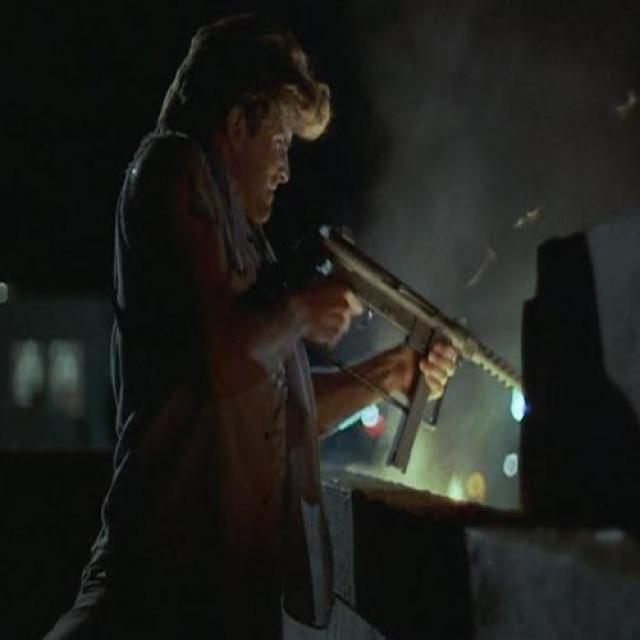rifle: (288, 219, 529, 483)
